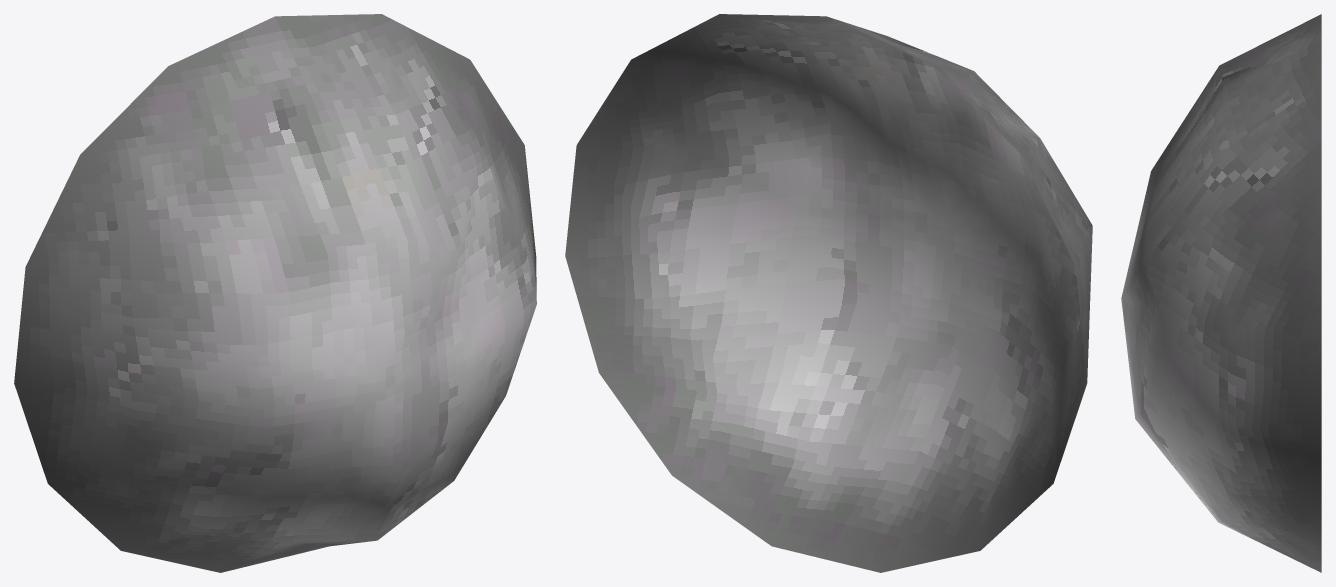
File: INST_SWORDLIGHT_STONEA.fbx
The picture shows the model from 3 angles, left to right: view 1: azimuth 30°, elevation 25°; view 2: azimuth 150°, elevation 25°; view 3: azimuth 270°, elevation 25°; orthographic projection. The views are drawn at different scales.
Parts seen in each view (by area): view 1: INST_SWORDLIGHT_STONEA; view 2: INST_SWORDLIGHT_STONEA; view 3: INST_SWORDLIGHT_STONEA.
Part boxes in pixels (bbox=[...]): INST_SWORDLIGHT_STONEA: bbox=[14, 14, 536, 572]; INST_SWORDLIGHT_STONEA: bbox=[565, 14, 1092, 572]; INST_SWORDLIGHT_STONEA: bbox=[1121, 14, 1321, 572].
Bounding box in the file's own units: 16787 × 16695 × 5996.
Materials: 1 (1 with a texture image).
